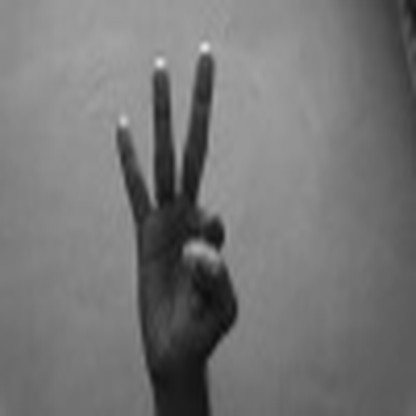f: (110, 35, 245, 353)
